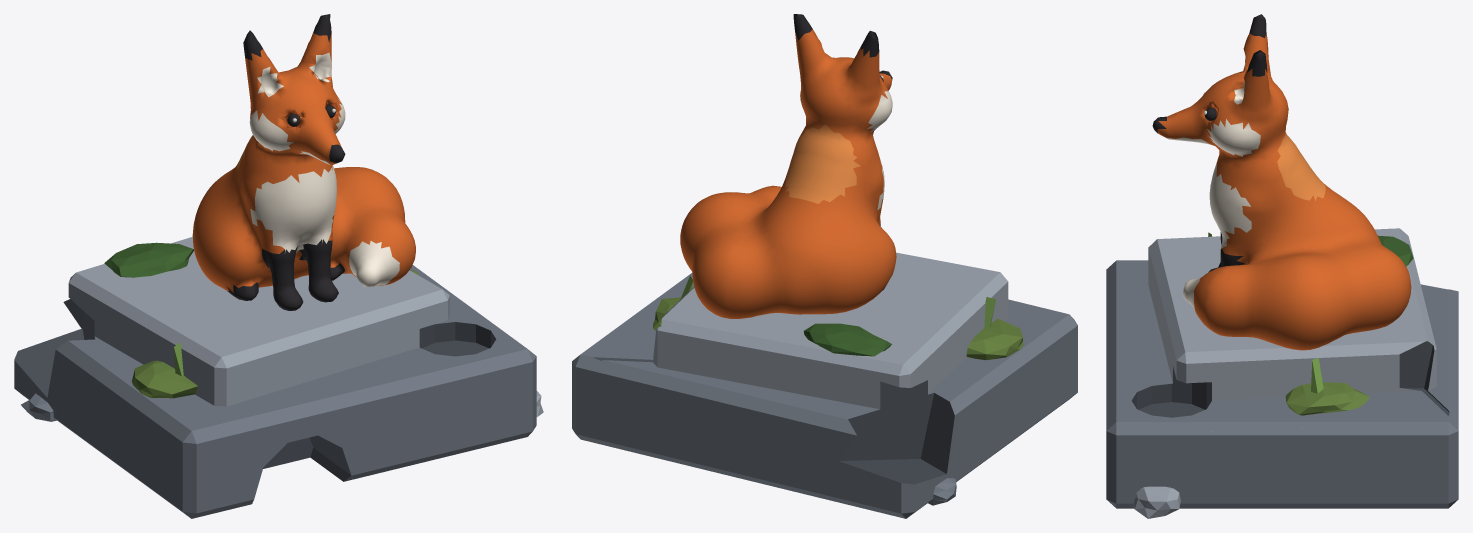
File: fox_on_stones.glb
3 renders of one model, left to right at view 1: azimuth 30°, elevation 25°; view 2: azimuth 150°, elevation 25°; view 3: azimuth 270°, elevation 25°, orthographic. The views are drawn at different scales.
Visible parts, largest first — view 1: fox_on_stones; view 2: fox_on_stones; view 3: fox_on_stones.
Boxes of the visible parts, left/top/right/bottom form: fox_on_stones: left=14, top=14, right=543, bottom=518; fox_on_stones: left=572, top=14, right=1077, bottom=518; fox_on_stones: left=1106, top=14, right=1458, bottom=518.
Size of what is drawn, in the model's own units: 1.77 by 1.74 by 1.4.
1 material, 1 textured.
